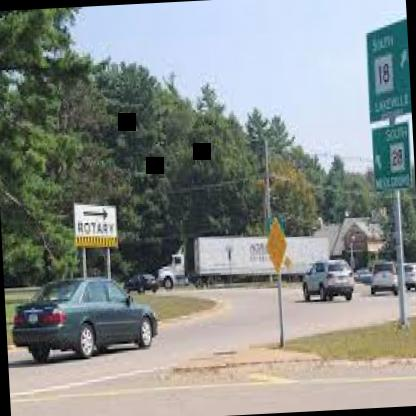car: (6, 230, 164, 380), (149, 212, 346, 297), (282, 249, 356, 311), (366, 257, 402, 301), (122, 255, 158, 297), (396, 253, 416, 293)
